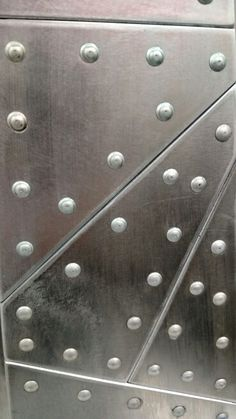rivet: (76, 41, 102, 67), (6, 110, 31, 137), (2, 41, 27, 67), (144, 45, 167, 69), (153, 101, 176, 124), (56, 196, 81, 217), (206, 51, 228, 73), (213, 122, 234, 145), (11, 179, 34, 200), (105, 151, 127, 172), (16, 238, 37, 260), (160, 167, 181, 188), (189, 174, 209, 195), (165, 226, 184, 246), (64, 261, 83, 281), (110, 217, 130, 236), (15, 304, 35, 323), (168, 399, 187, 418), (18, 337, 37, 356), (208, 239, 227, 257), (146, 271, 165, 289), (125, 394, 144, 412), (125, 316, 143, 334), (62, 346, 79, 365), (188, 279, 205, 297), (75, 388, 93, 404), (23, 379, 41, 395), (211, 291, 227, 308), (178, 368, 196, 383), (168, 323, 183, 341), (105, 357, 123, 372), (145, 364, 162, 378), (213, 377, 227, 393), (215, 336, 229, 352), (215, 411, 230, 419)
